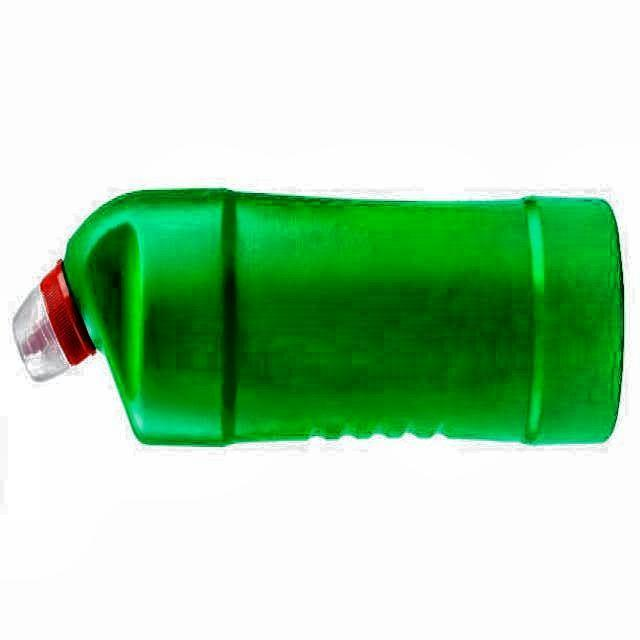plastic: (14, 189, 624, 444)
